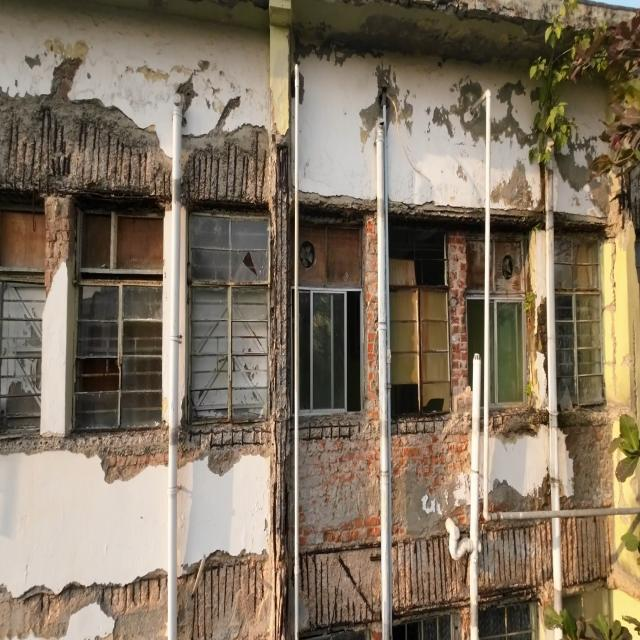spalling: (299, 212, 380, 551), (390, 225, 472, 539), (0, 92, 170, 206), (0, 570, 166, 638), (178, 551, 272, 639), (393, 523, 469, 624), (182, 125, 268, 209), (301, 545, 380, 631), (301, 549, 379, 632), (479, 520, 551, 606), (560, 409, 613, 506), (562, 519, 610, 594)
